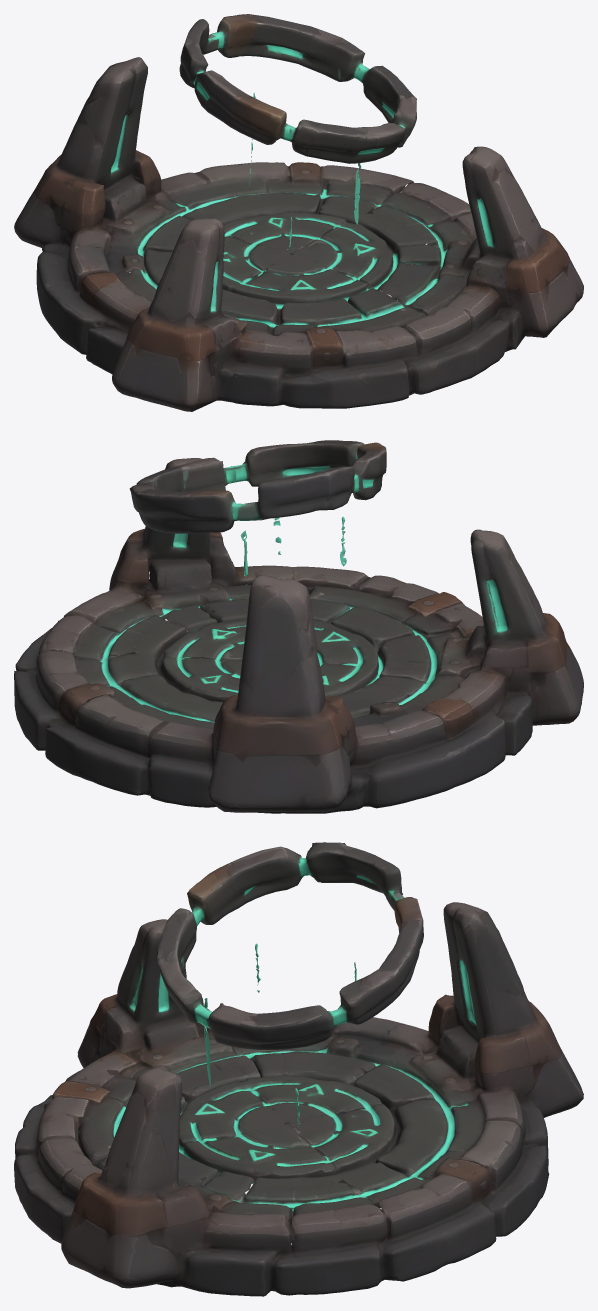
Rendered from loop_device.glb.
3 renders of one model, top to bottom at view 1: azimuth 30°, elevation 25°; view 2: azimuth 150°, elevation 25°; view 3: azimuth 270°, elevation 25°, orthographic. The views are drawn at different scales.
Visible parts, largest first — view 1: tripo_node_86af4b30; view 2: tripo_node_86af4b30; view 3: tripo_node_86af4b30.
Part boxes in pixels (x1,y1,x2,y2): tripo_node_86af4b30: [14, 14, 583, 411]; tripo_node_86af4b30: [14, 440, 583, 813]; tripo_node_86af4b30: [14, 842, 583, 1296].
Bounding box in the file's own units: 98.88 × 56.28 × 97.15.
1 material, 1 textured.
